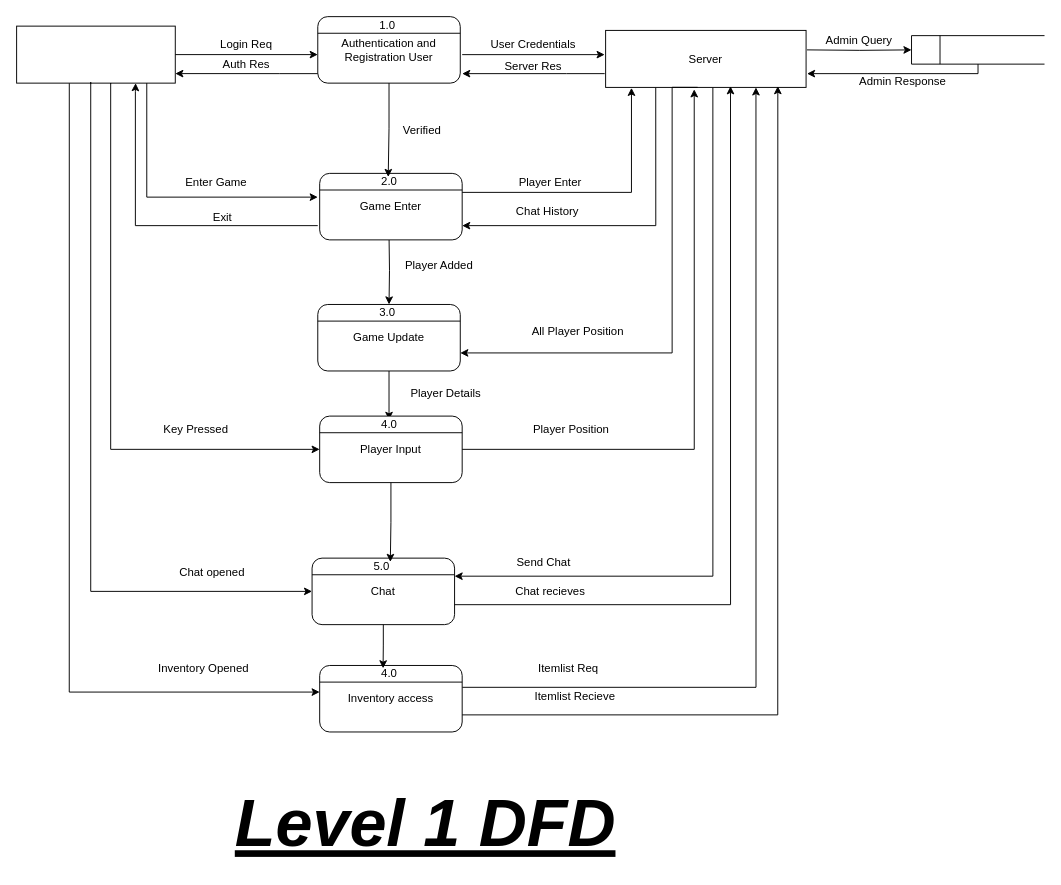
The diagram is 1061 pixels wide and 885 high, and some of its shapes have lost their labels. The centre of each missing label's shape, as x and y in pixels:
"D1 Players" belongs at point 978,49.
"Player" belongs at point 95,54.
